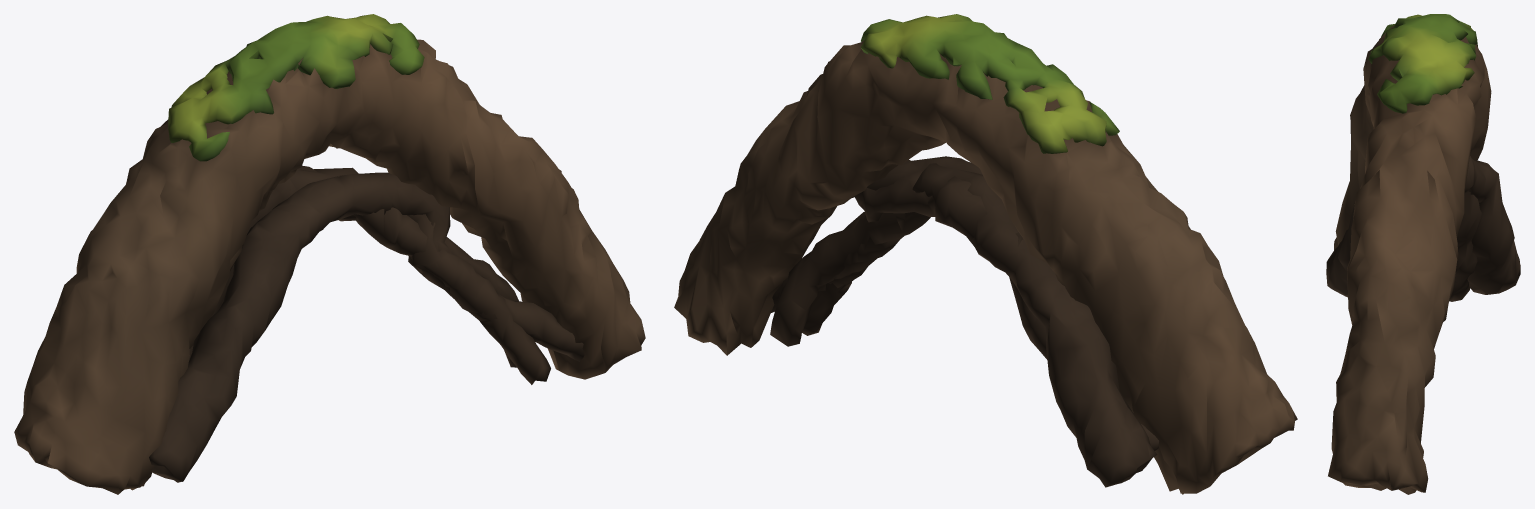
Rendered from mire_root_arch.glb.
3 renders of one model, left to right at view 1: azimuth 30°, elevation 25°; view 2: azimuth 150°, elevation 25°; view 3: azimuth 270°, elevation 25°, orthographic. The views are drawn at different scales.
Parts seen in each view (by area): view 1: mire_root_arch; view 2: mire_root_arch; view 3: mire_root_arch.
Boxes of the visible parts, left/top/right/bottom form: mire_root_arch: left=14, top=14, right=645, bottom=494; mire_root_arch: left=674, top=14, right=1297, bottom=494; mire_root_arch: left=1326, top=14, right=1520, bottom=494.
Bounding box in the file's own units: 17.11 × 10.89 × 5.15.
